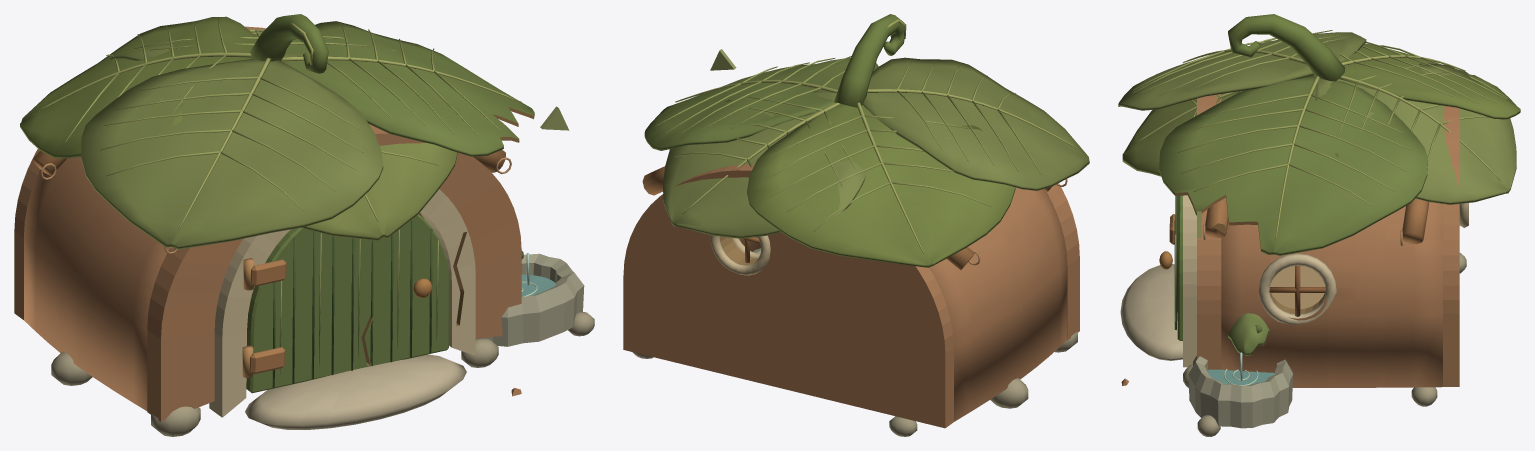
3 views of the same model, side by side, from view 1: azimuth 30°, elevation 25°; view 2: azimuth 150°, elevation 25°; view 3: azimuth 270°, elevation 25° (orthographic). The views are drawn at different scales.
Visible parts, largest first — view 1: roof_assembly, asset_root_geometry, door_assembly; view 2: asset_root_geometry, roof_assembly; view 3: roof_assembly, asset_root_geometry, door_assembly.
Boxes of the visible parts, bbox=[...] form: roof_assembly: bbox=[20, 14, 534, 254]; asset_root_geometry: bbox=[14, 26, 594, 436]; door_assembly: bbox=[242, 214, 449, 393]; asset_root_geometry: bbox=[623, 164, 1079, 436]; roof_assembly: bbox=[642, 14, 1089, 270]; roof_assembly: bbox=[1118, 14, 1520, 255]; asset_root_geometry: bbox=[1120, 94, 1468, 436]; door_assembly: bbox=[1159, 195, 1182, 340].
Size of the model in its own units: 0.3104 by 0.2265 by 0.2633.
